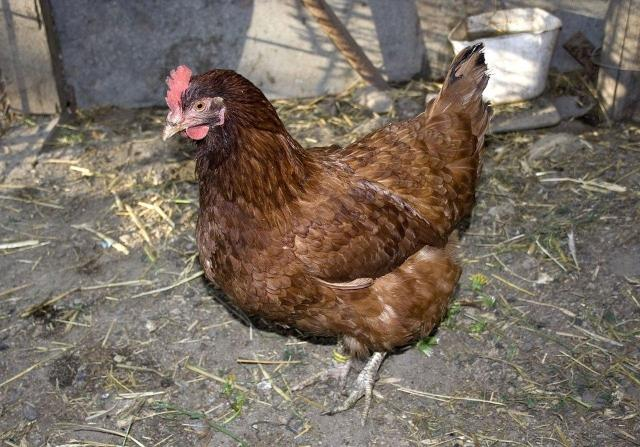Chicken: (163, 42, 494, 422)
